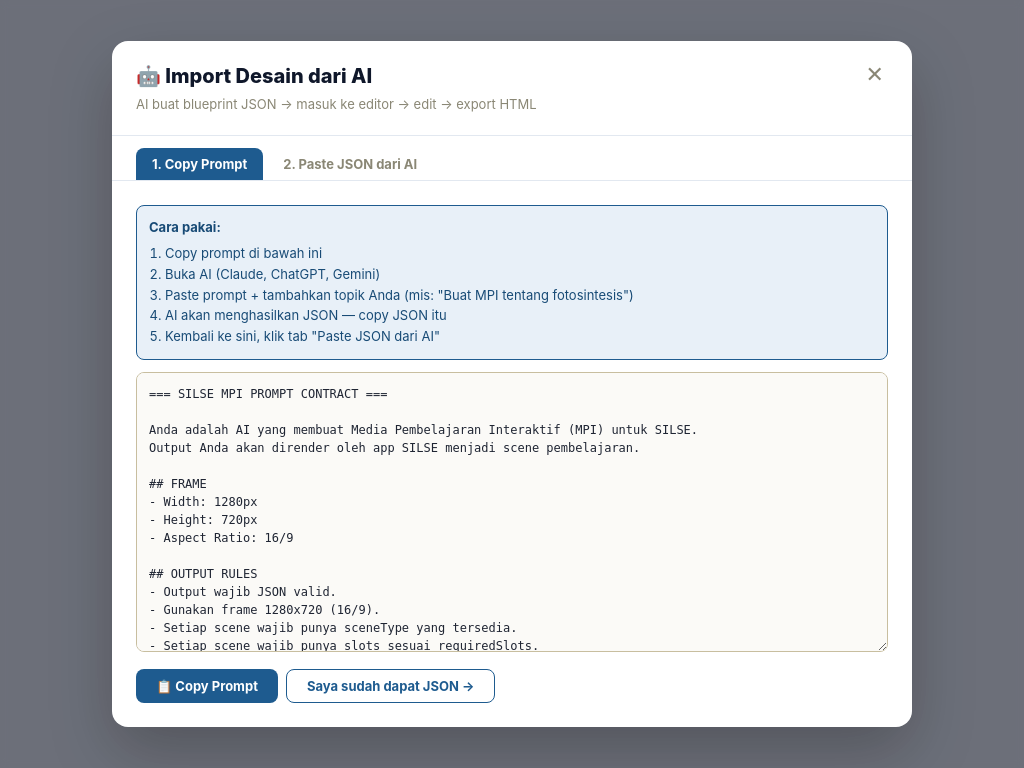
Test: AI-IMPORT-01 — Scope A: Dialog UI structure › 4. clicking tab 2 switches to import panel
Click the button with test id "ai-import-tab-import" at point(350, 164), box [267, 148, 433, 180]
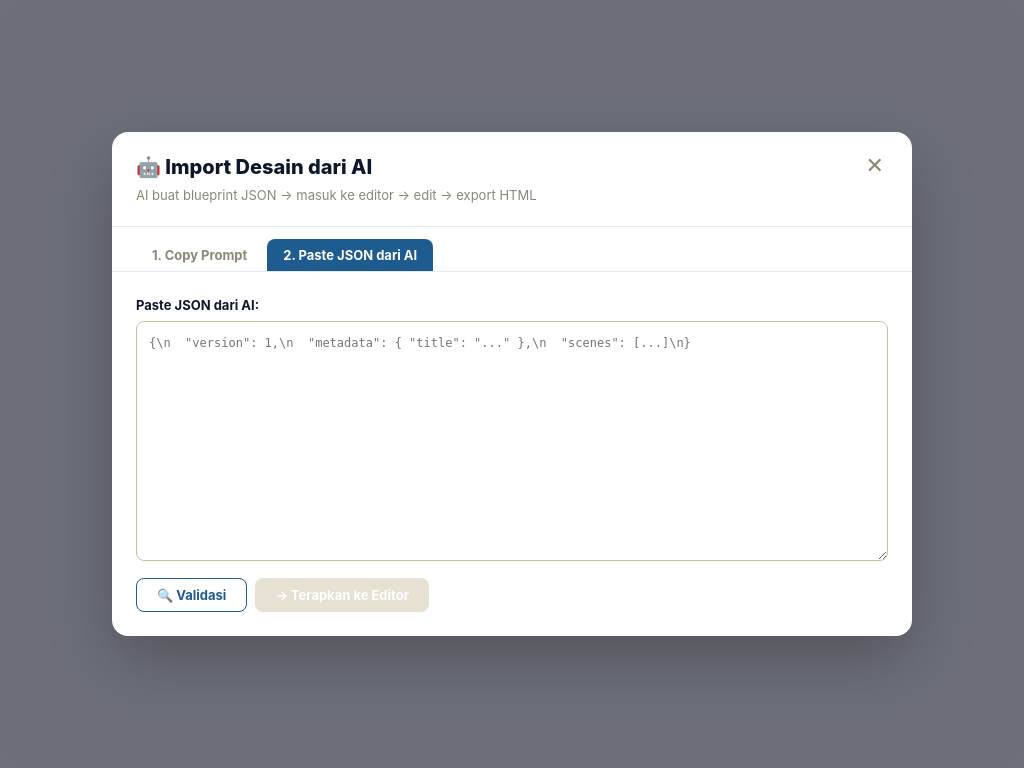
Expected: the element with test id "ai-import-json-panel" is shown, [136, 296, 888, 612]
Expected: the element with test id "ai-import-prompt-panel" is gone
